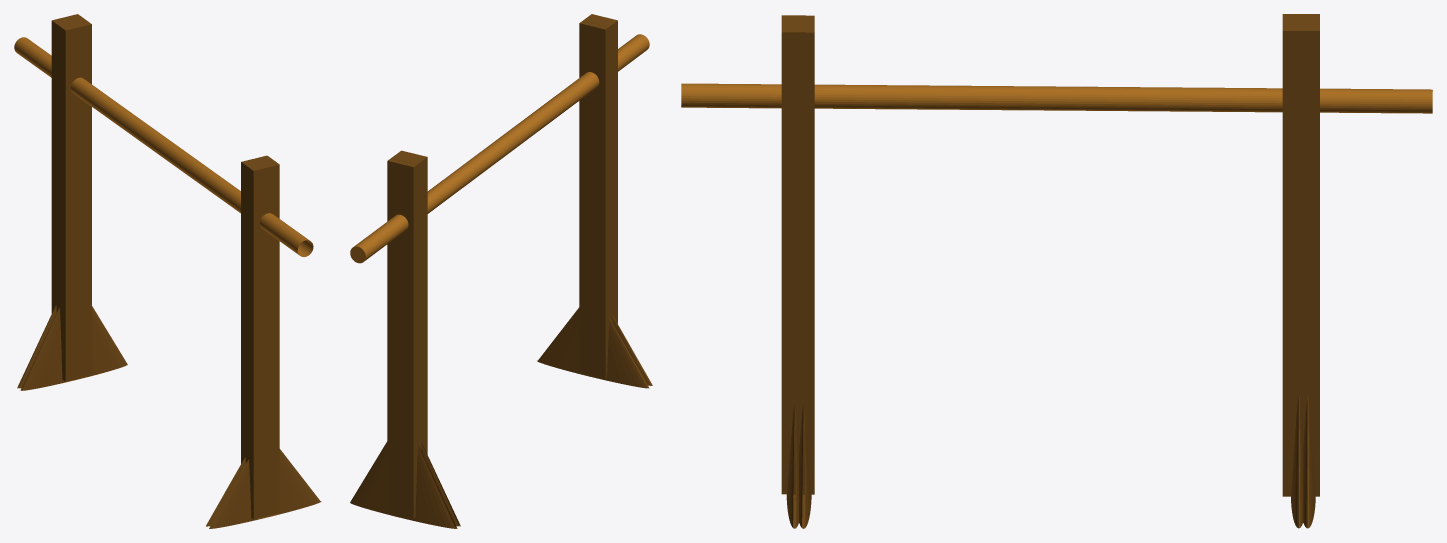
File: wood2.dae
3 views of the same model, side by side, from view 1: azimuth 30°, elevation 25°; view 2: azimuth 150°, elevation 25°; view 3: azimuth 270°, elevation 25° (orthographic). The views are drawn at different scales.
Parts seen in each view (by area): view 1: Cone, Cone_001; view 2: Cone_001, Cone; view 3: Cone_001, Cone.
Part boxes in pixels (x1=…): Cone: x1=17, y1=16, x2=321, y2=528; Cone_001: x1=14, y1=14, x2=304, y2=526; Cone_001: x1=350, y1=21, x2=649, y2=528; Cone: x1=357, y1=14, x2=652, y2=526; Cone_001: x1=690, y1=14, x2=1432, y2=528; Cone: x1=681, y1=14, x2=1423, y2=528.
Bounding box in the file's own units: 0.8602 × 3.75 × 2.59.
